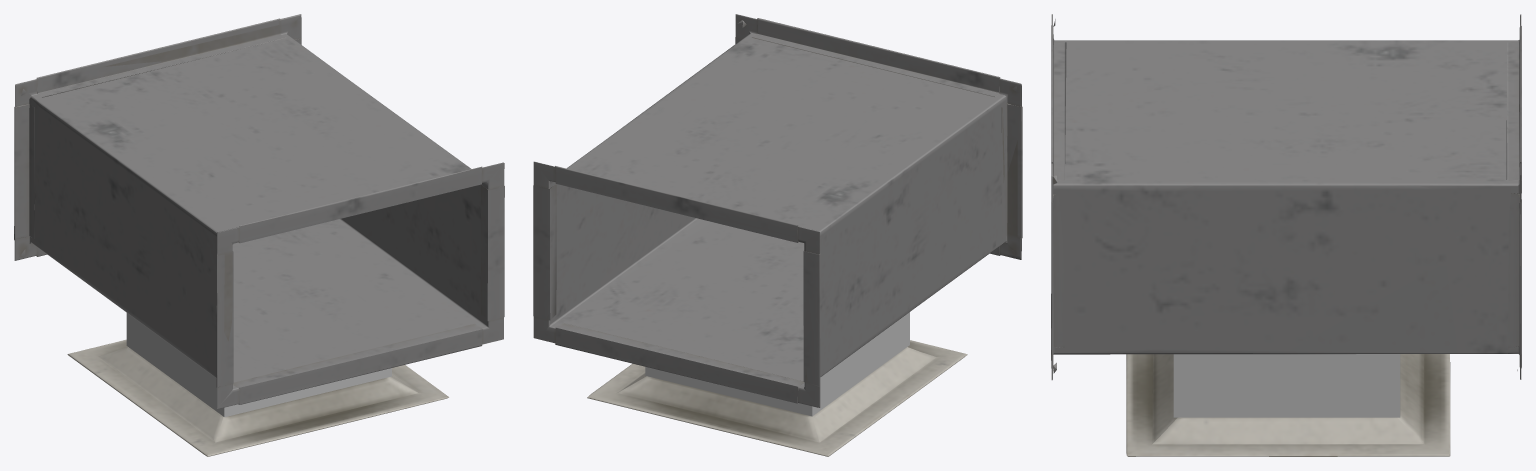
Rendered from SM_Ventilation_Stack02.fbx.
The picture shows the model from 3 angles, left to right: view 1: azimuth 30°, elevation 25°; view 2: azimuth 150°, elevation 25°; view 3: azimuth 270°, elevation 25°; orthographic projection. The views are drawn at different scales.
Visible parts, largest first — view 1: SM_Ventilation_Stack02_LOD0; view 2: SM_Ventilation_Stack02_LOD0; view 3: SM_Ventilation_Stack02_LOD0.
Boxes of the visible parts, x1=… form: SM_Ventilation_Stack02_LOD0: x1=14, y1=14, x2=504, y2=456; SM_Ventilation_Stack02_LOD0: x1=533, y1=14, x2=1022, y2=456; SM_Ventilation_Stack02_LOD0: x1=1051, y1=14, x2=1521, y2=456.
Size of the model in its own units: 81.91 by 100 by 69.45.
